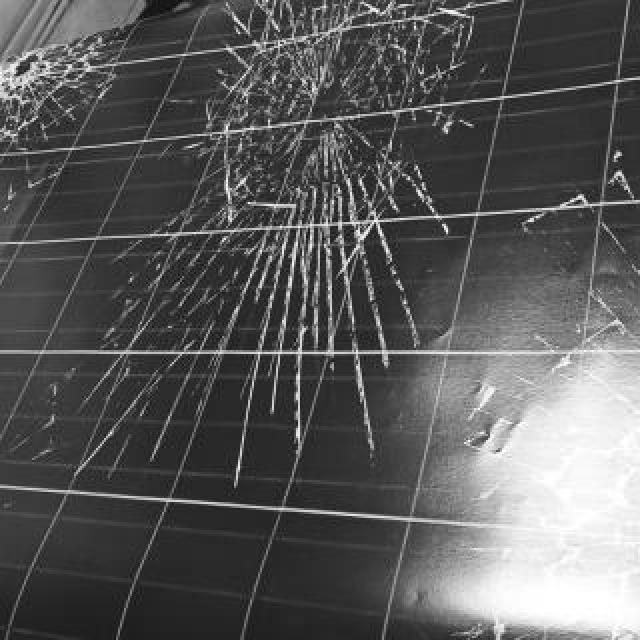Physical-damage: (171, 157, 407, 379), (257, 54, 481, 190), (228, 6, 426, 109), (8, 56, 176, 165), (15, 36, 113, 153)
